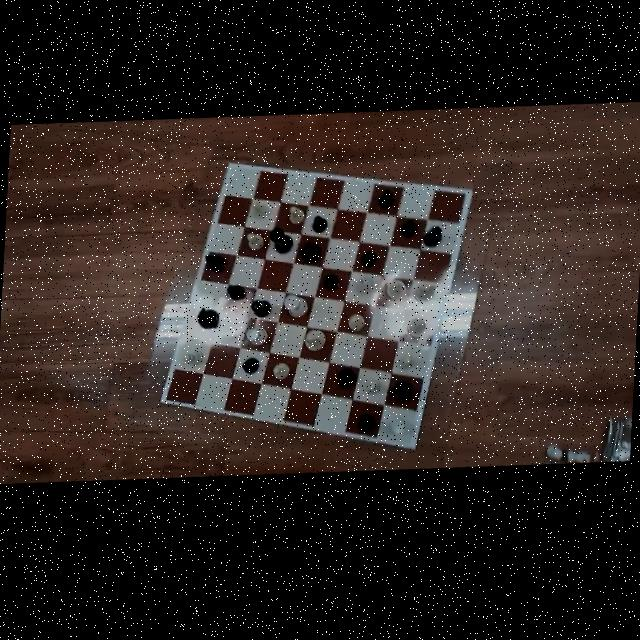chessboard-corner: (468, 196, 476, 204), (410, 454, 418, 460), (227, 162, 231, 170), (156, 399, 160, 406)
